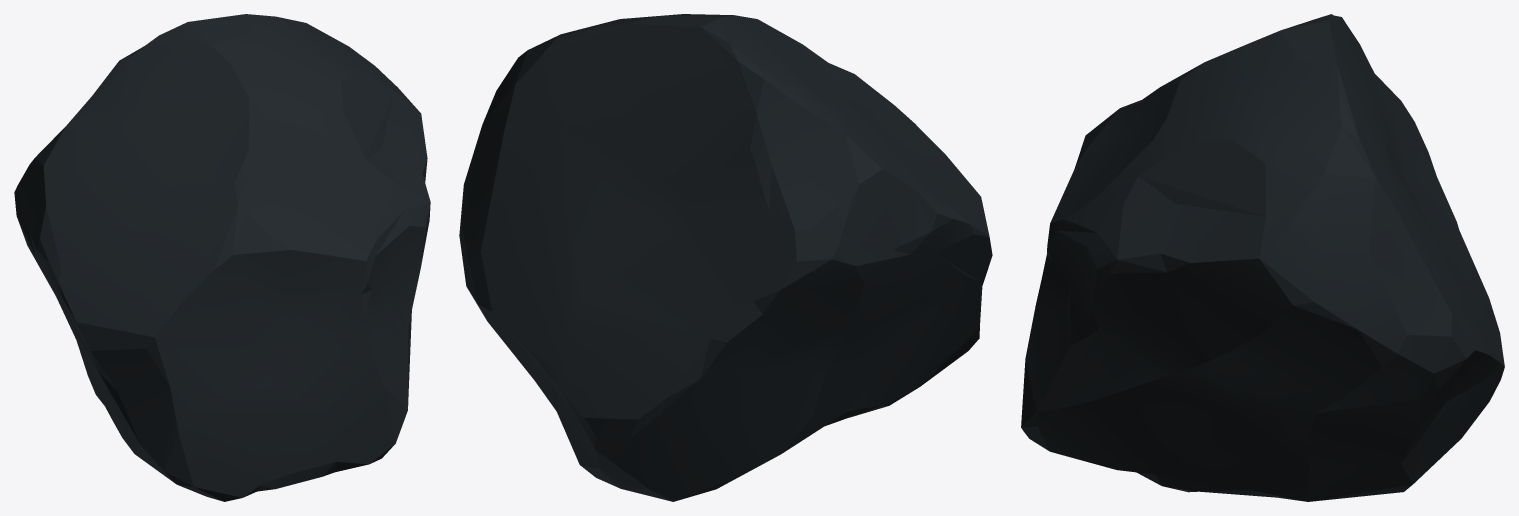
File: Asteroid_m_16.FBX
3 views of the same model, side by side, from view 1: azimuth 30°, elevation 25°; view 2: azimuth 150°, elevation 25°; view 3: azimuth 270°, elevation 25° (orthographic). The views are drawn at different scales.
Parts seen in each view (by area): view 1: Asteroid_m_16; view 2: Asteroid_m_16; view 3: Asteroid_m_16.
Boxes of the visible parts, <box> form: Asteroid_m_16: <box>14,14,430,501</box>; Asteroid_m_16: <box>459,14,992,501</box>; Asteroid_m_16: <box>1021,14,1504,501</box>.
Bounding box in the file's own units: 869 × 843 × 839.
